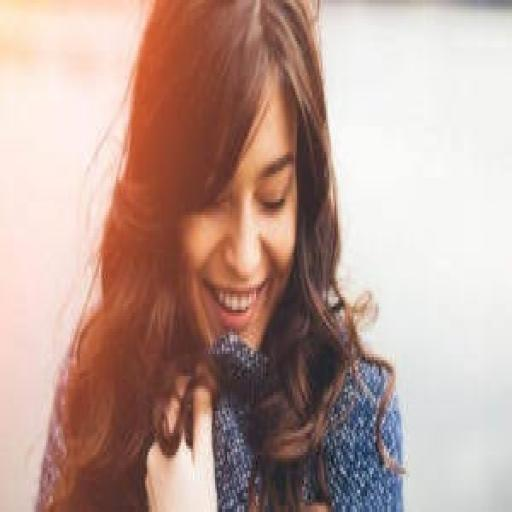laughing: (32, 0, 412, 506)
